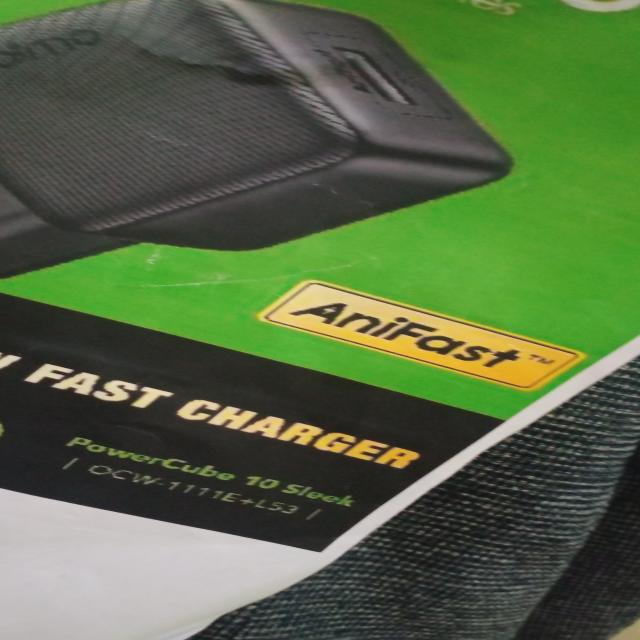PowerCube 10 Sleek OCW-1111ExL53: (50, 429, 377, 527)
